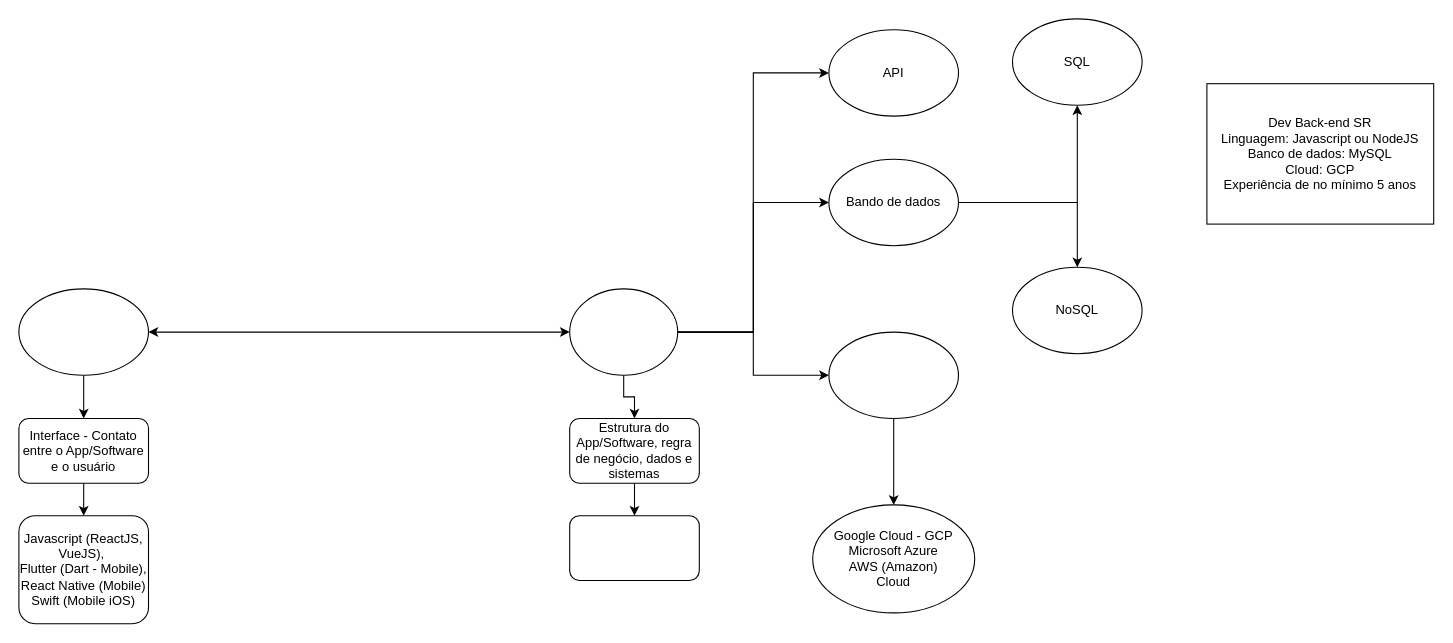
This 1453x643 diagram has some shape labels left out. The shapes that lost their labels are listed below. From the top down, each one's centre as x and y in pixels, then its label:
the point at 83,331: Front-end
the point at 623,331: Back-end
the point at 893,374: Cloud
the point at 634,547: C#, Java (Bootstrap), Javascript (NodeJS), Python, PHP (Laravel), Ruby,
